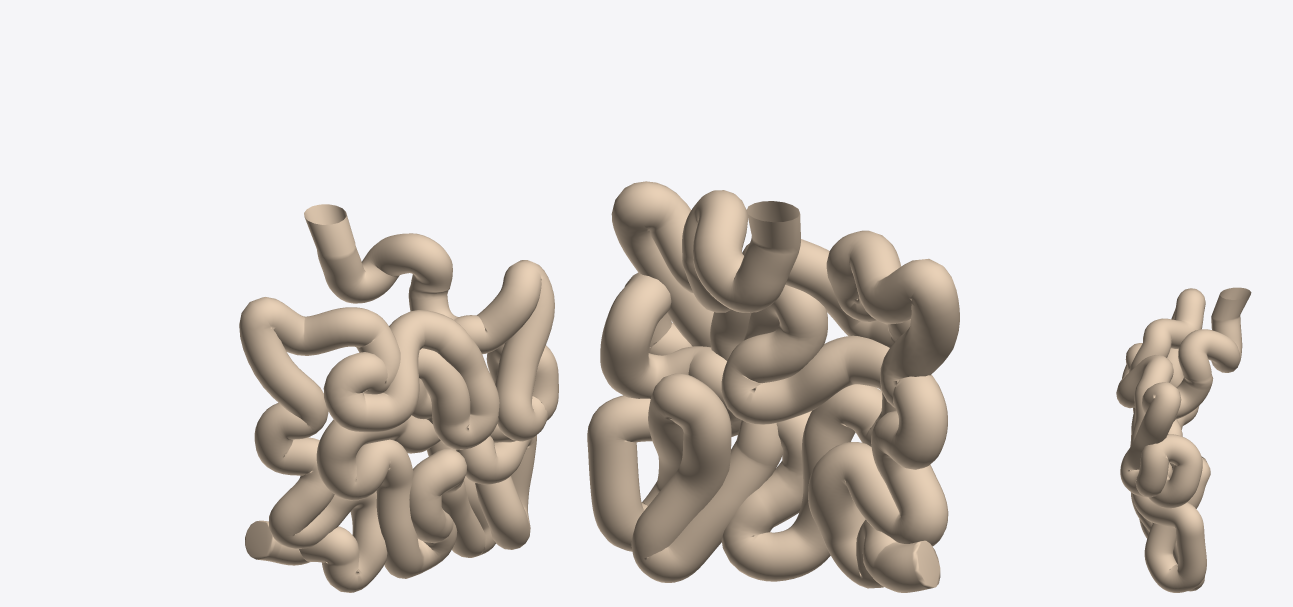
File: intestinoDelgado.fbx
3 views of the same model, side by side, from view 1: azimuth 30°, elevation 25°; view 2: azimuth 150°, elevation 25°; view 3: azimuth 270°, elevation 25° (orthographic). The views are drawn at different scales.
Parts seen in each view (by area): view 1: intestinoDelgado; view 2: intestinoDelgado; view 3: intestinoDelgado.
Part boxes in pixels (x1=…): intestinoDelgado: x1=239, y1=204, x2=558, y2=592; intestinoDelgado: x1=587, y1=181, x2=959, y2=592; intestinoDelgado: x1=1116, y1=287, x2=1251, y2=592.
Bounding box in the file's own units: 6.13 × 7.57 × 2.57.
